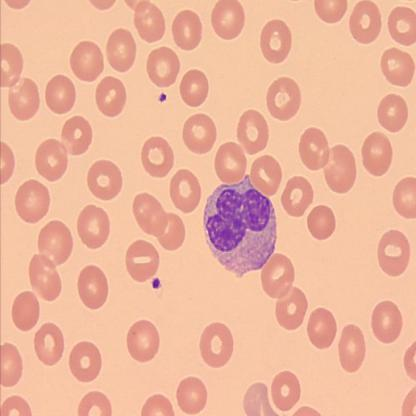Monocyte: (202, 172, 280, 279)
